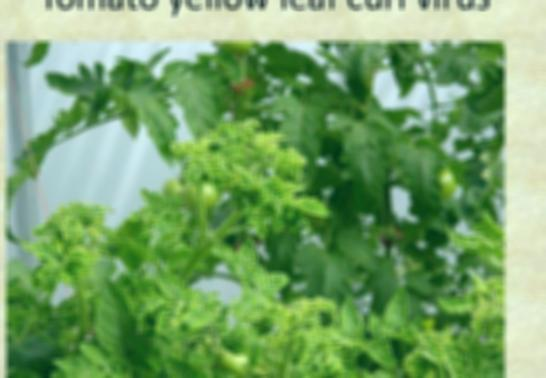Tomato leaf yellow virus: (384, 282, 420, 331), (149, 262, 190, 300), (297, 328, 329, 374), (443, 222, 490, 253), (337, 295, 366, 345), (181, 299, 220, 335), (20, 241, 68, 268), (291, 194, 337, 220), (433, 292, 475, 320), (70, 247, 102, 280), (236, 237, 258, 283), (258, 272, 295, 297), (248, 312, 283, 338), (207, 157, 231, 185), (185, 156, 202, 194), (264, 178, 291, 201), (282, 153, 304, 177), (238, 167, 260, 191), (225, 323, 242, 353)
